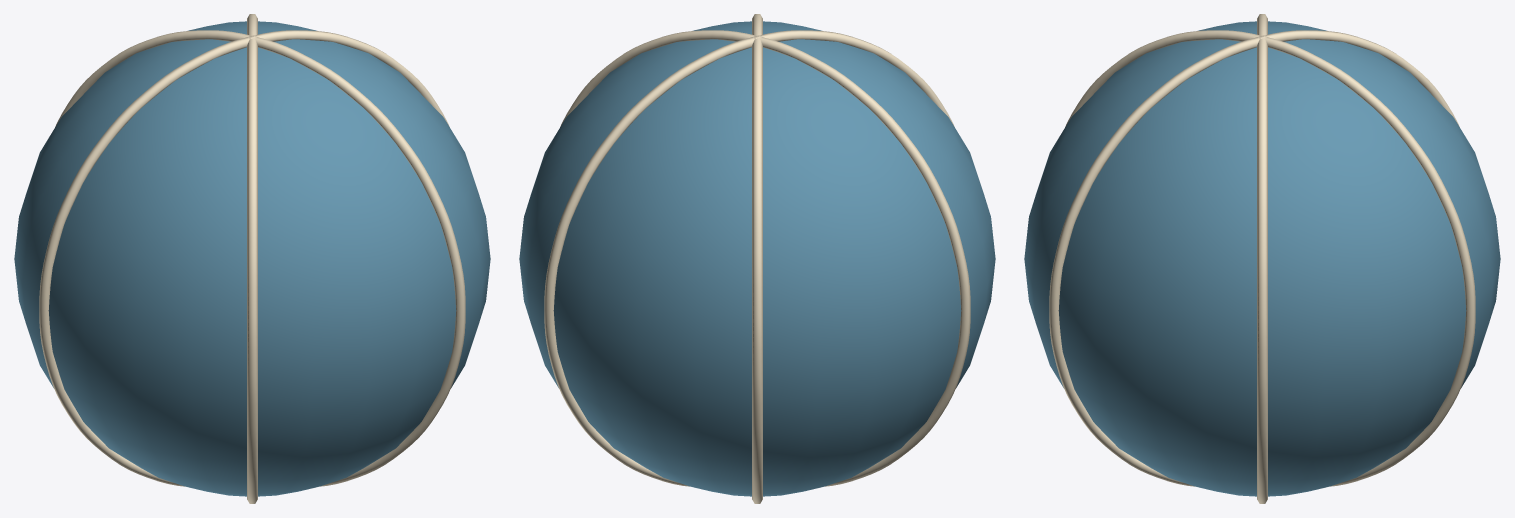
The model's file is ball.glb.
3 views of the same model, side by side, from view 1: azimuth 30°, elevation 25°; view 2: azimuth 150°, elevation 25°; view 3: azimuth 270°, elevation 25° (orthographic).
Parts seen in each view (by area): view 1: Crafted_blue, Crafted_cream; view 2: Crafted_blue, Crafted_cream; view 3: Crafted_blue, Crafted_cream.
Boxes of the visible parts, box(x1,y1,x2,y2) form: Crafted_blue: box(14, 21, 490, 496); Crafted_cream: box(39, 14, 465, 503); Crafted_blue: box(519, 21, 995, 496); Crafted_cream: box(544, 14, 970, 503); Crafted_blue: box(1024, 21, 1500, 496); Crafted_cream: box(1049, 14, 1475, 503).
Bounding box in the file's own units: 0.5344 × 0.5344 × 0.52.
